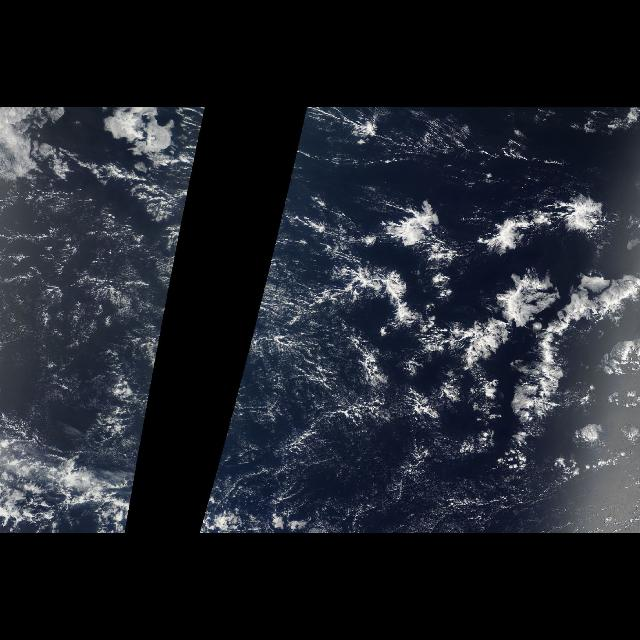Fish: (318, 182, 634, 468)
Flower: (360, 189, 640, 459)
Sugar: (217, 187, 639, 533), (0, 186, 190, 466)
